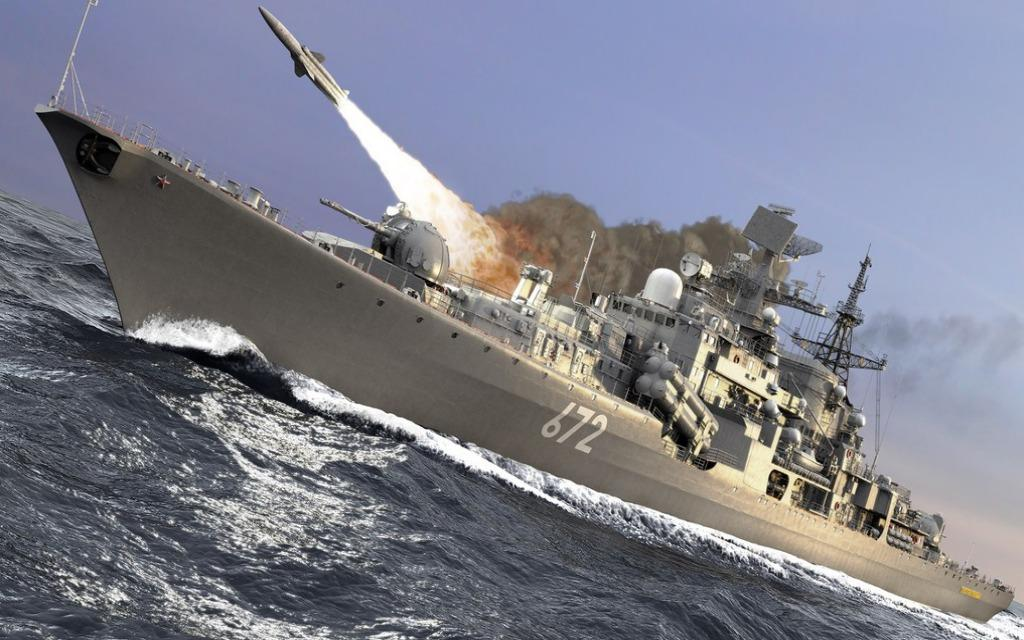Warship: (35, 51, 1015, 625)
